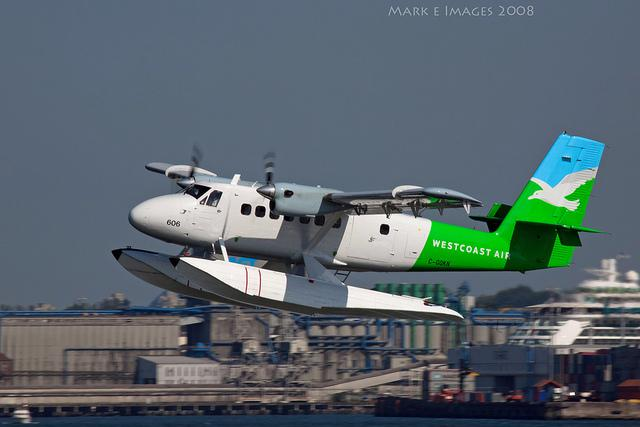Airplane: (114, 133, 611, 321)
